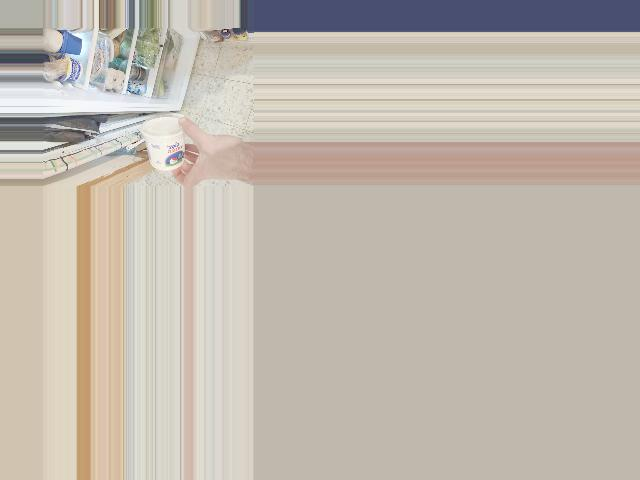cotage: (141, 116, 192, 172)
